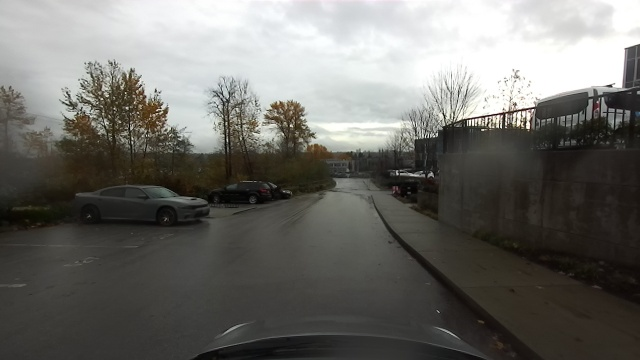car: (526, 82, 638, 146), (74, 183, 213, 228), (216, 182, 275, 202), (386, 166, 410, 181), (271, 183, 293, 199), (407, 170, 434, 179)
